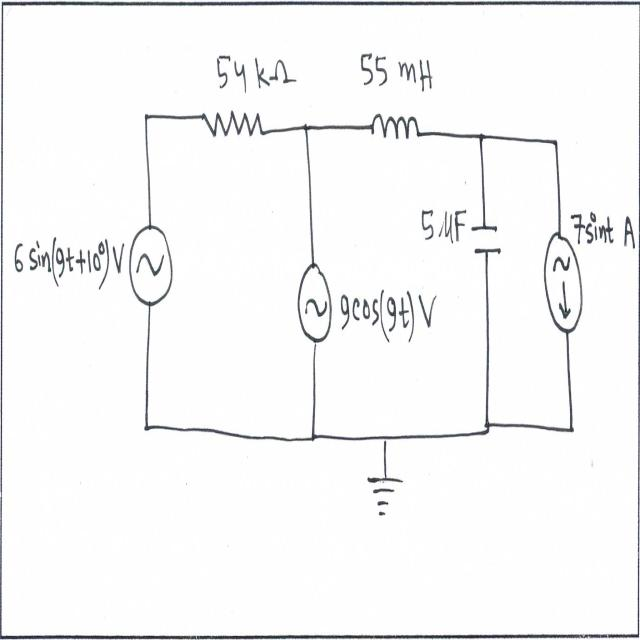ac_current: (126, 218, 176, 316), (296, 260, 336, 357)
capacitor: (468, 214, 504, 264)
current_source: (540, 223, 584, 334)
ground: (363, 466, 405, 526)
inductor: (365, 107, 424, 149)
resistor: (196, 94, 268, 146)
